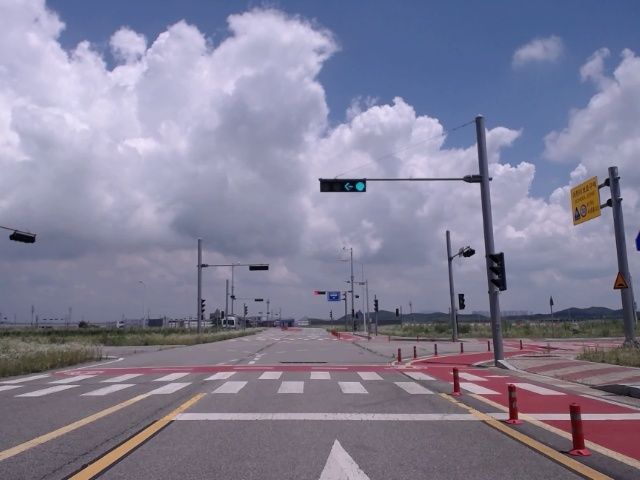all_green_4: (316, 180, 367, 196)
